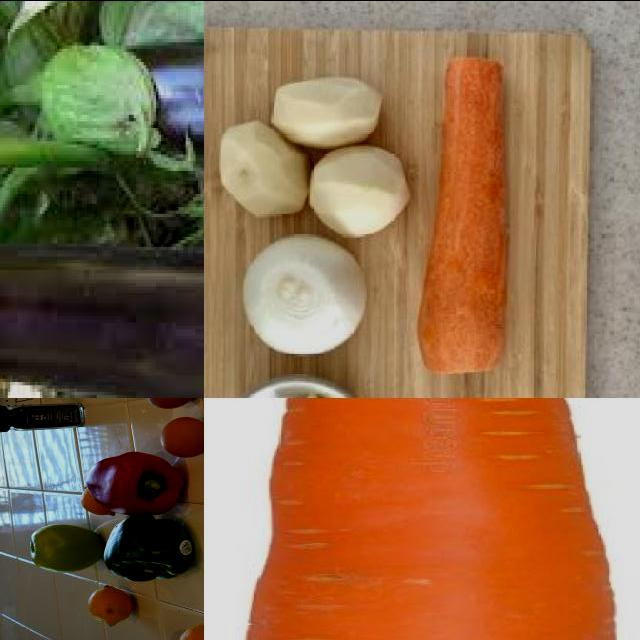bell_pepper: (98, 511, 202, 592), (83, 446, 183, 520), (1, 399, 86, 437)
carrot: (229, 398, 640, 640), (420, 55, 508, 377)
egg: (156, 416, 205, 460), (143, 398, 200, 413)
eggplant: (1, 233, 205, 398), (35, 43, 205, 168)
onion: (240, 230, 371, 358)
potato: (309, 147, 413, 236), (219, 118, 308, 220), (269, 75, 387, 147)
